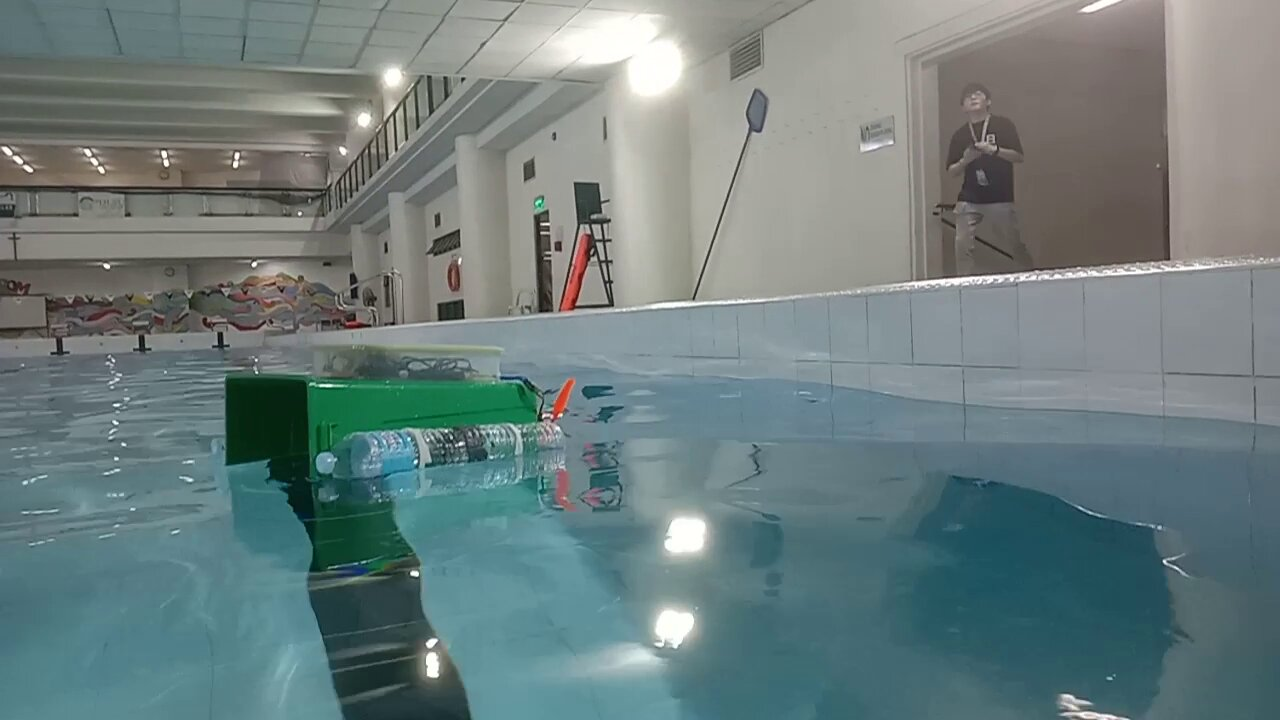drone: (223, 346, 577, 480)
